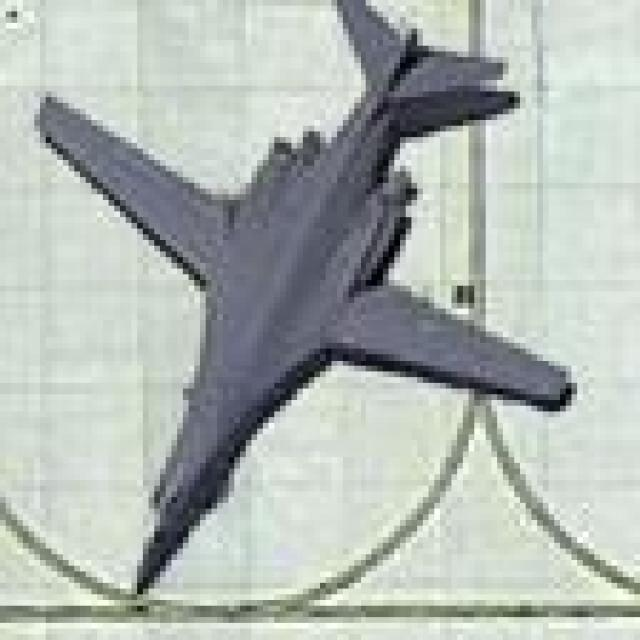B-1_TopDown: (39, 15, 579, 592)
